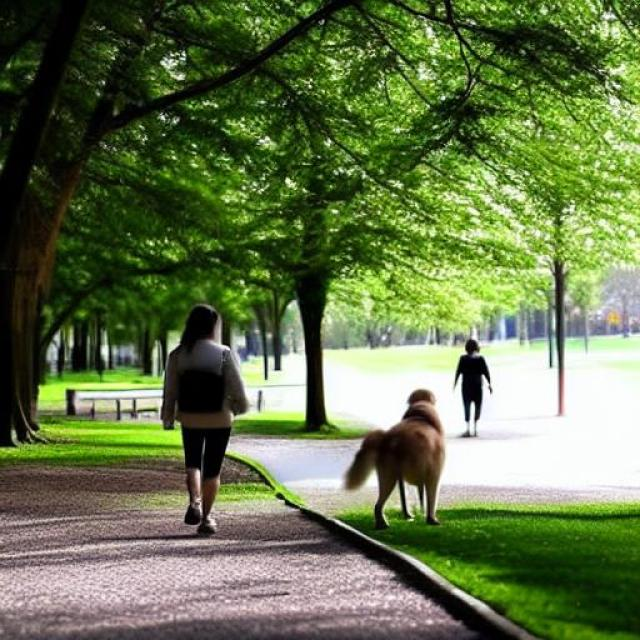Unleashed_Dog: (181, 388, 446, 534)
